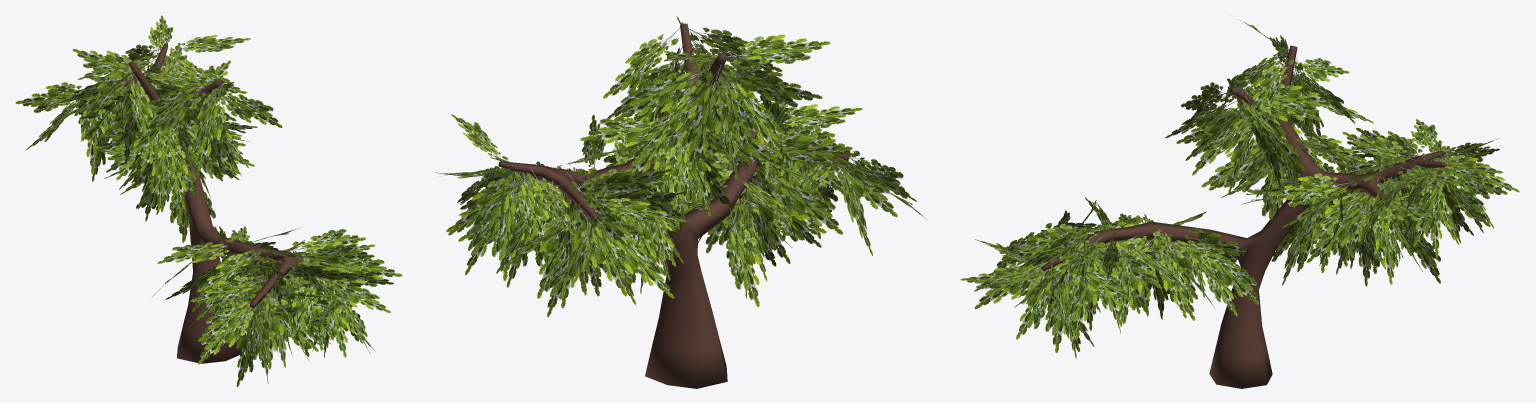
Rendered from WillowLower.fbx.
The picture shows the model from 3 angles, left to right: view 1: azimuth 30°, elevation 25°; view 2: azimuth 150°, elevation 25°; view 3: azimuth 270°, elevation 25°; orthographic projection. The views are drawn at different scales.
Visible parts, largest first — view 1: Leaves, Trunk; view 2: Leaves, Trunk; view 3: Leaves, Trunk.
Part boxes in pixels (box(x1,y1,x2,y2)): Leaves: box(15, 15, 402, 386); Trunk: box(120, 43, 307, 363); Leaves: box(435, 16, 926, 316); Trunk: box(498, 23, 849, 388); Leaves: box(960, 15, 1519, 358); Trunk: box(1041, 45, 1446, 388).
Bounding box in the file's own units: 8.34 × 5.04 × 4.33.
Materials: 2 (1 with a texture image).
